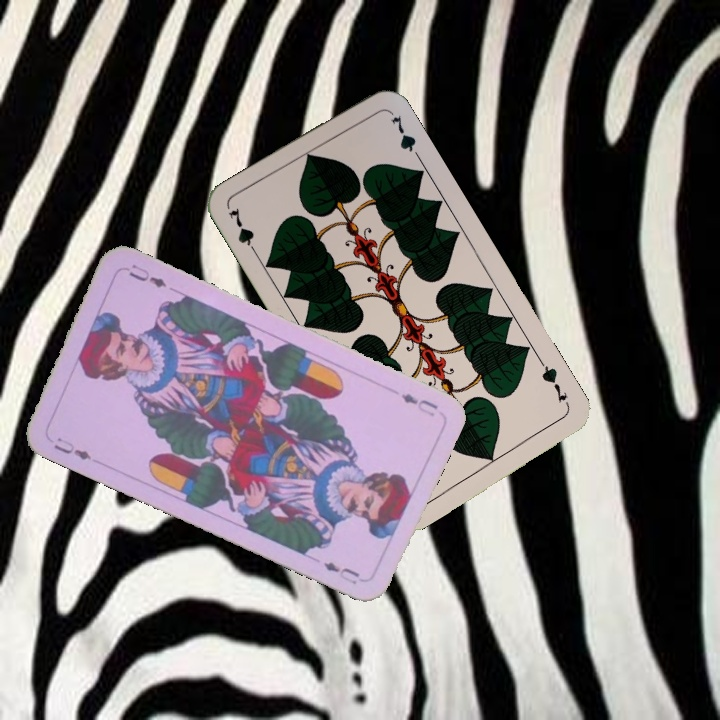EU: (49, 433, 94, 463), (396, 389, 441, 419)
G7: (224, 203, 262, 260), (536, 357, 570, 406)
